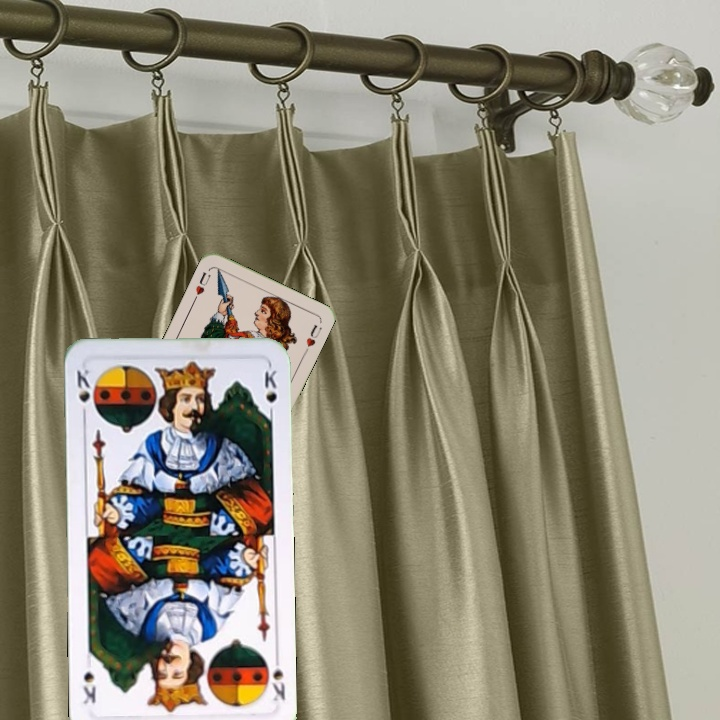HU: (190, 268, 213, 304)
SK: (73, 364, 93, 422), (268, 650, 288, 704)
